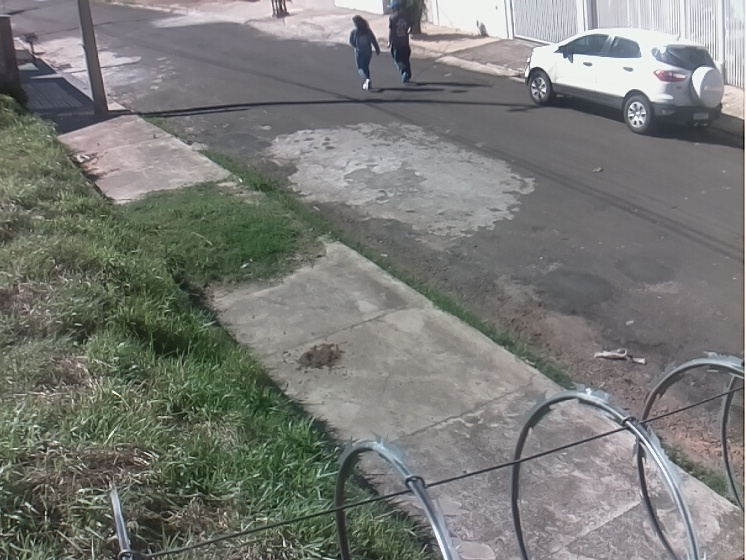person: (348, 14, 381, 92), (386, 3, 412, 86)
